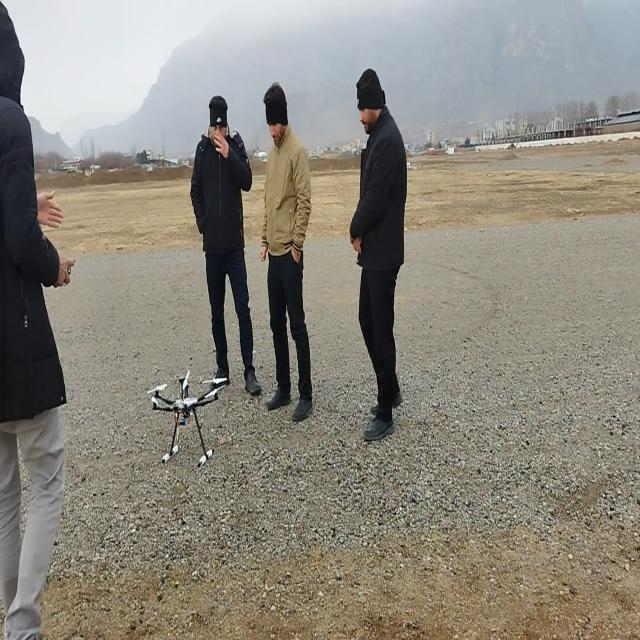drone: (146, 371, 228, 465)
